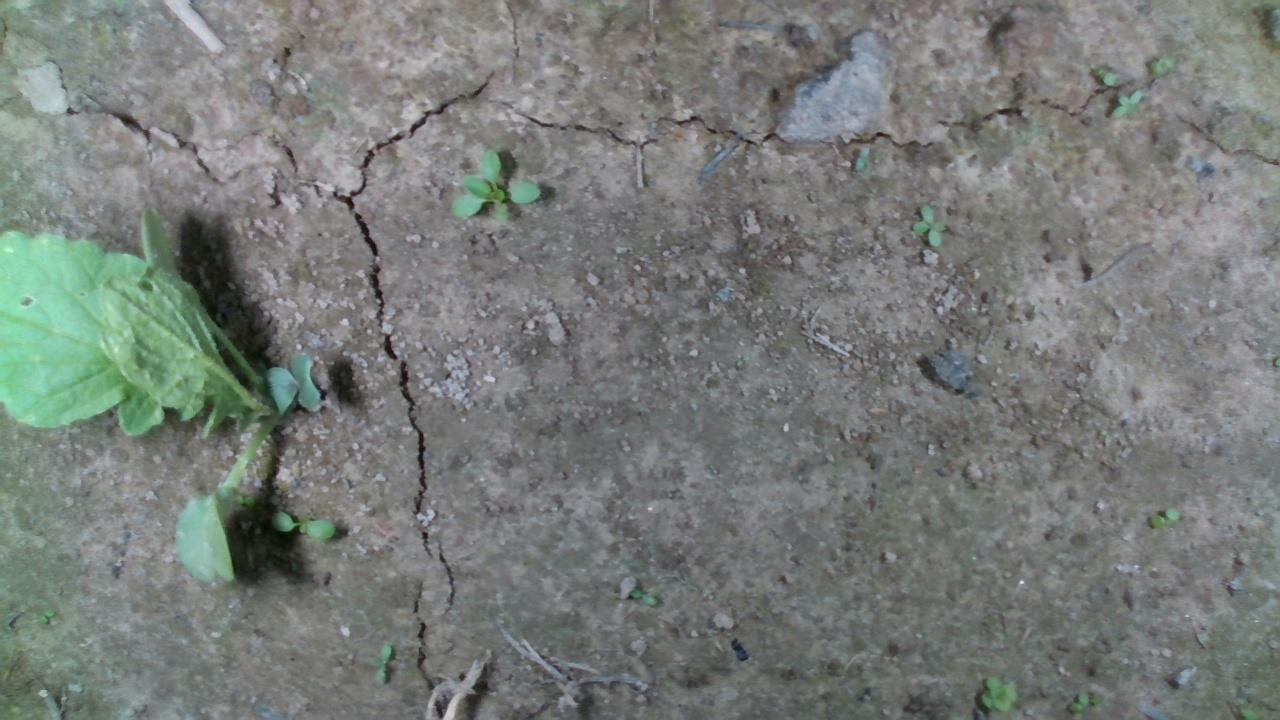weed: (269, 507, 336, 540), (908, 199, 948, 248), (1107, 86, 1143, 122), (367, 641, 392, 686), (1144, 506, 1180, 529), (1089, 59, 1116, 85), (1065, 689, 1091, 714), (625, 586, 656, 605), (852, 142, 869, 170), (232, 493, 258, 507), (36, 606, 55, 624)
